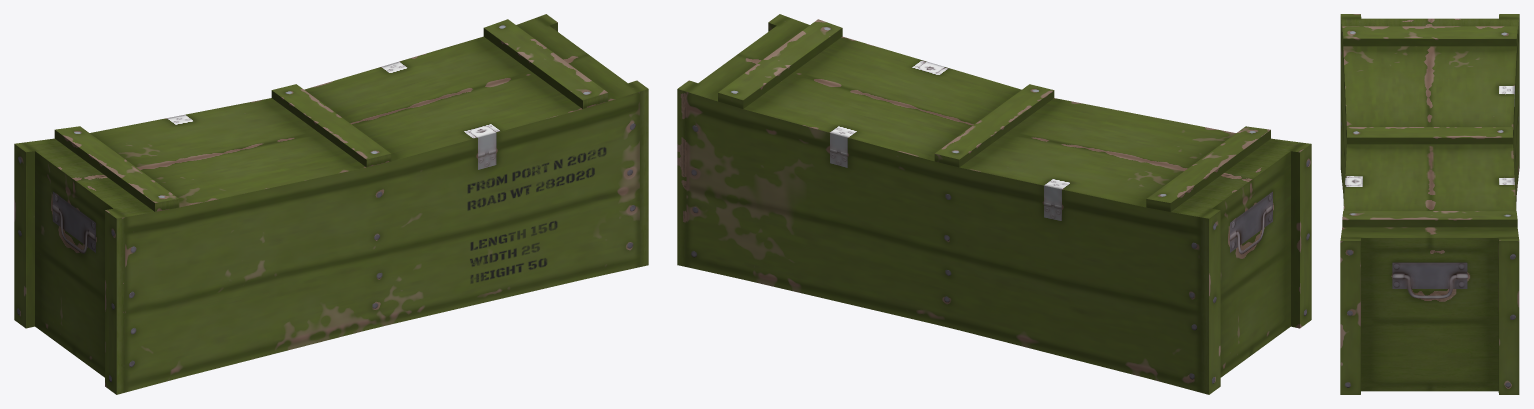
File: Crate04_4.FBX
3 views of the same model, side by side, from view 1: azimuth 30°, elevation 25°; view 2: azimuth 150°, elevation 25°; view 3: azimuth 270°, elevation 25° (orthographic). The views are drawn at different scales.
Visible parts, largest first — view 1: Crate04_4; view 2: Crate04_4; view 3: Crate04_4.
Boxes of the visible parts, left/top/right/bottom form: Crate04_4: left=14, top=14, right=648, bottom=394; Crate04_4: left=677, top=14, right=1311, bottom=394; Crate04_4: left=1340, top=14, right=1519, bottom=394.
Size of what is drawn, in the model's own units: 1.5 by 0.489 by 0.5005.
